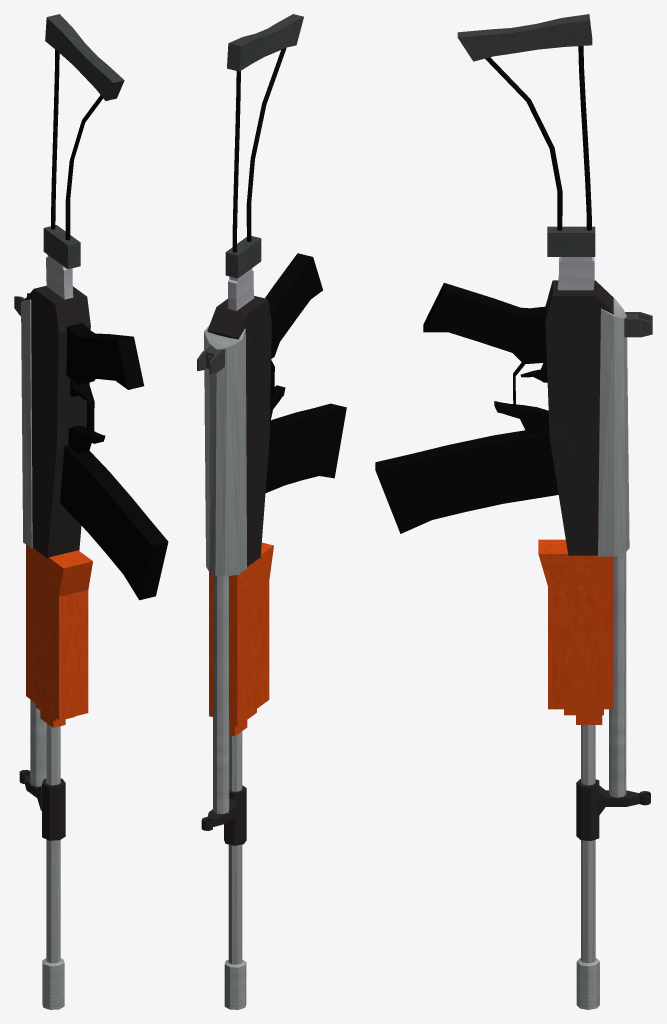
Rendered from galil.dae.
3 renders of one model, left to right at view 1: azimuth 30°, elevation 25°; view 2: azimuth 150°, elevation 25°; view 3: azimuth 270°, elevation 25°, orthographic. The views are drawn at different scales.
Visible parts, largest first — view 1: arma, cargador; view 2: arma, cargador; view 3: arma, cargador.
Part boxes in pixels (<box>): arma: <box>14,14,144,1009</box>; cargador: <box>60,445,168,600</box>; arma: <box>197,14,322,1009</box>; cargador: <box>265,403,346,492</box>; arma: <box>423,14,652,1009</box>; cargador: <box>375,430,558,533</box>.
Bounding box in the file's own units: 0.1084 × 0.6737 × 2.65.
